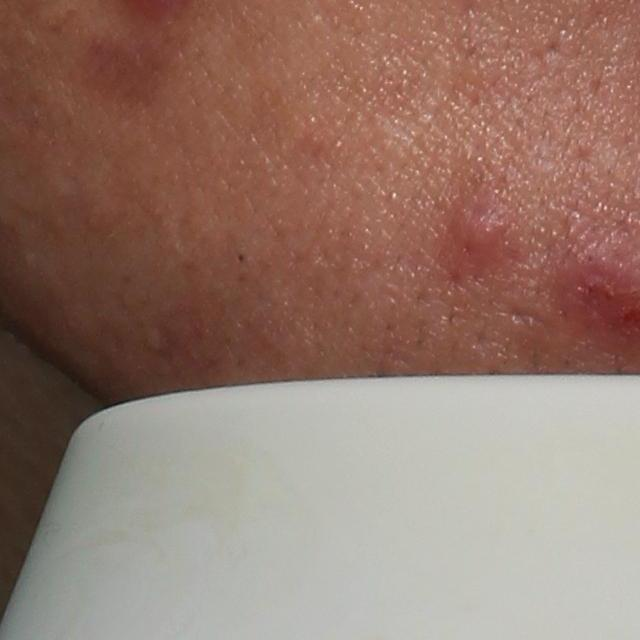hypertrophic_scar: (371, 122, 422, 168)
papule: (445, 199, 511, 276)
